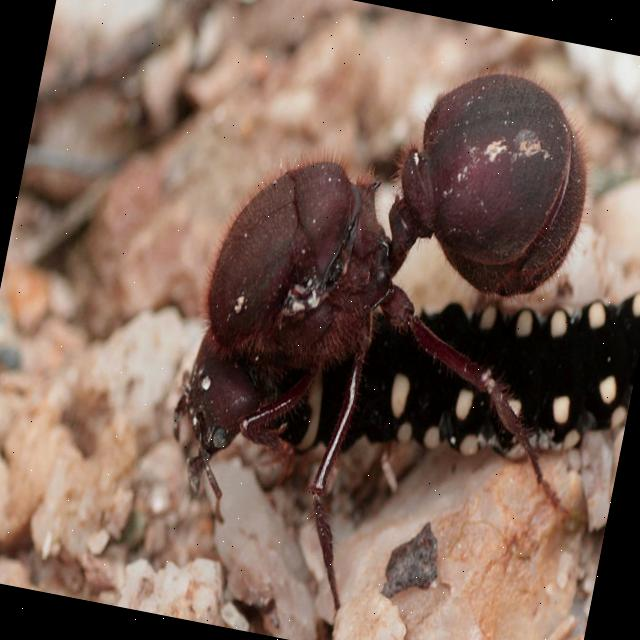Alive-Female-Dealate: (142, 18, 640, 640)
